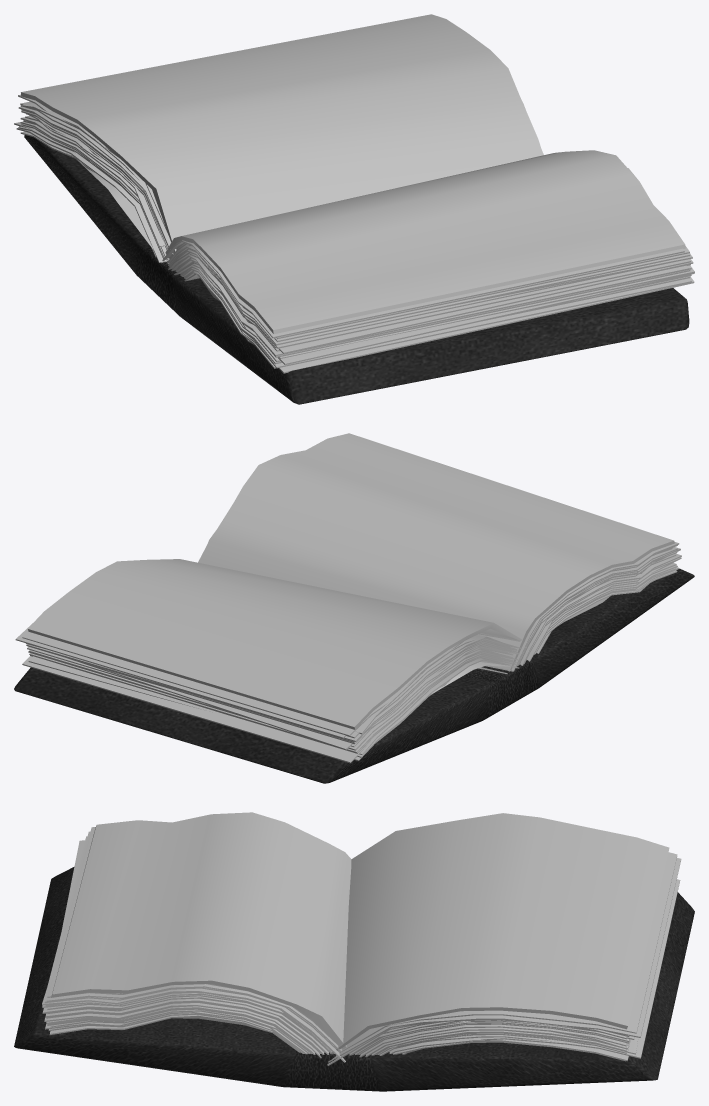
Rendered from livro aberto preto.fbx.
3 views of the same model, one above another, from view 1: azimuth 30°, elevation 25°; view 2: azimuth 150°, elevation 25°; view 3: azimuth 270°, elevation 25° (orthographic). The views are drawn at different scales.
Visible parts, largest first — view 1: livros aberto_LOD0; view 2: livros aberto_LOD0; view 3: livros aberto_LOD0.
Part boxes in pixels (left/top/right/bottom): livros aberto_LOD0: left=14, top=14, right=694, bottom=404; livros aberto_LOD0: left=14, top=433, right=694, bottom=783; livros aberto_LOD0: left=14, top=812, right=694, bottom=1091.
Size of what is drawn, in the model's own units: 43.16 by 10.56 by 60.1.
1 material, 1 textured.
